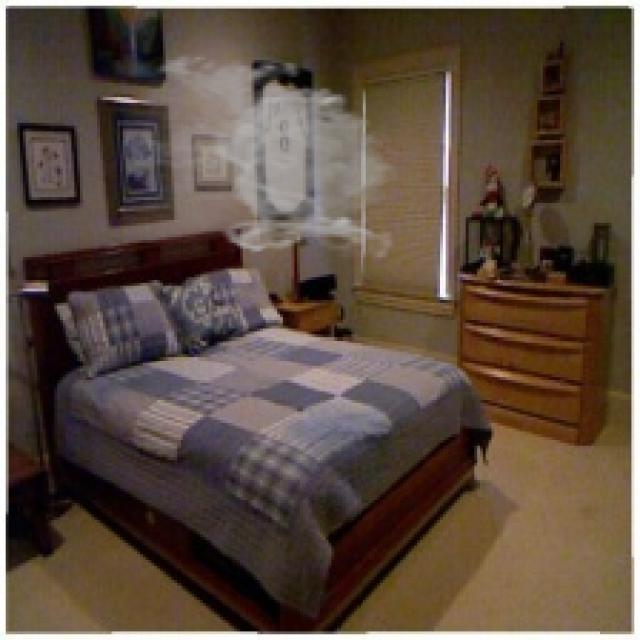Smoke: (123, 49, 403, 258)
